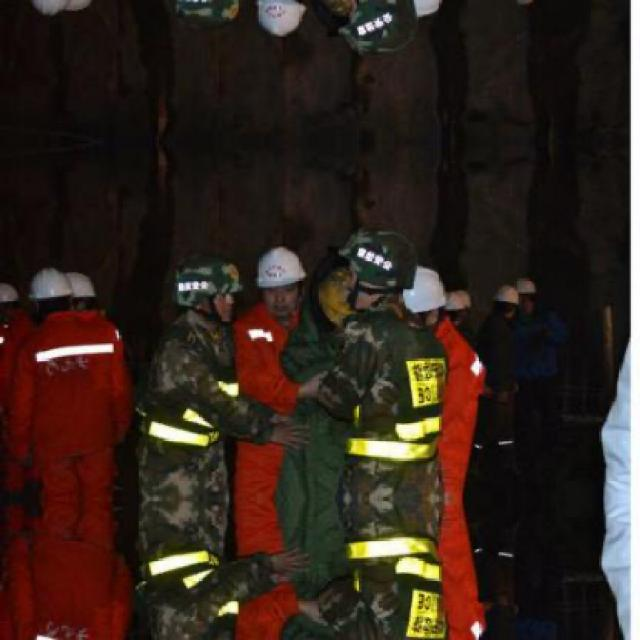helmet: (335, 225, 420, 317), (170, 250, 244, 328), (336, 0, 422, 57), (256, 246, 306, 314), (402, 272, 448, 328), (26, 265, 72, 317), (169, 0, 245, 31), (256, 0, 308, 35), (60, 270, 97, 312), (443, 289, 474, 325), (25, 0, 72, 17), (494, 286, 520, 316), (517, 277, 540, 308), (59, 0, 97, 12)
